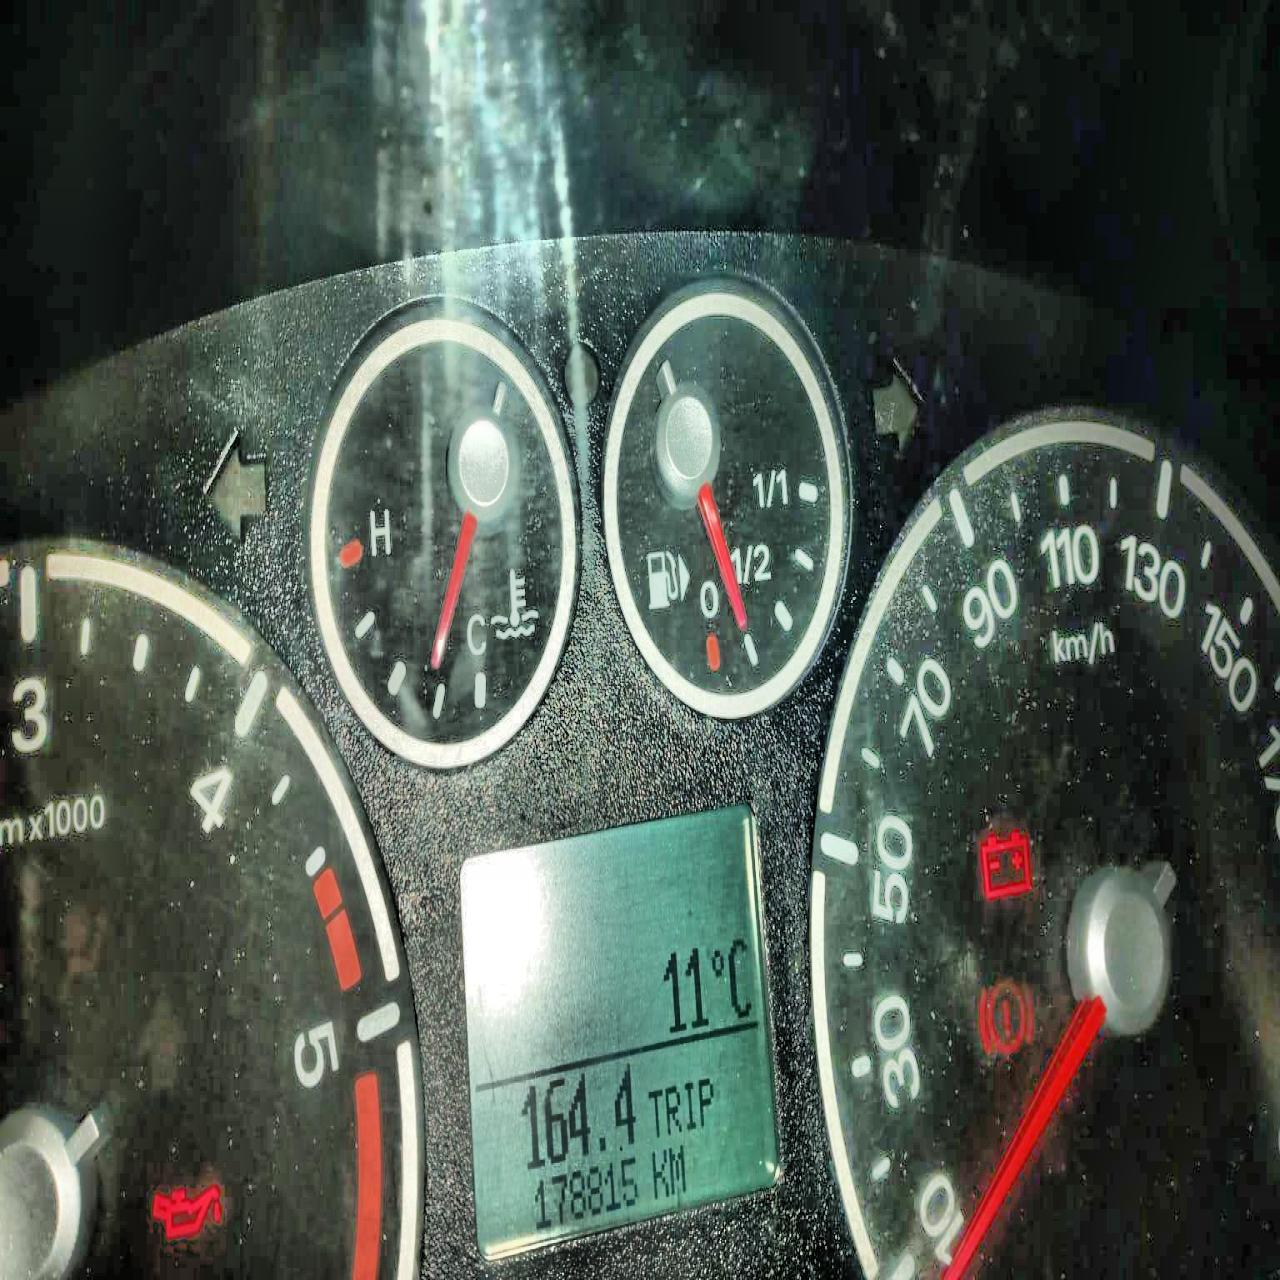-: (598, 1136, 606, 1151)
1: (661, 949, 687, 1032), (520, 1083, 545, 1169), (685, 946, 708, 1027), (533, 1176, 551, 1230), (604, 1159, 620, 1210)
4: (567, 1071, 591, 1155), (613, 1061, 636, 1144)
5: (620, 1156, 638, 1206)
6: (544, 1076, 567, 1163)
7: (551, 1172, 567, 1224)
8: (568, 1169, 586, 1219), (586, 1164, 604, 1214)
X: (727, 938, 751, 1016), (667, 1144, 686, 1196), (651, 1148, 668, 1200), (665, 1084, 682, 1135), (647, 1088, 662, 1138), (697, 1077, 713, 1126), (683, 1080, 696, 1130)
odometer: (455, 796, 787, 1265)
